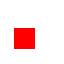square: (14, 28, 34, 48)
